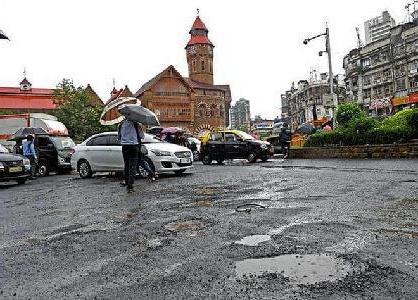pothole: (228, 249, 364, 286), (162, 214, 212, 233), (232, 229, 273, 246), (233, 200, 266, 211)
